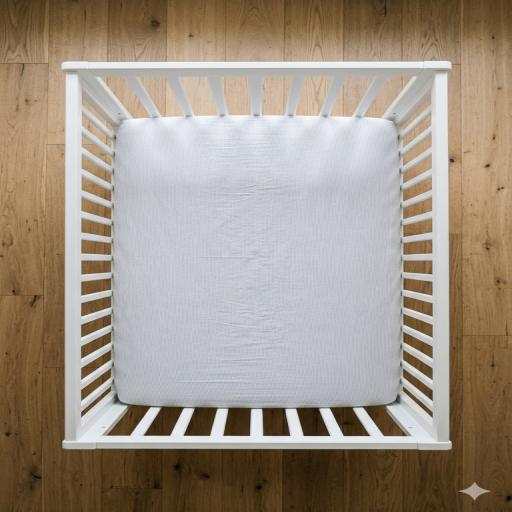crib: (146, 186, 405, 436)
